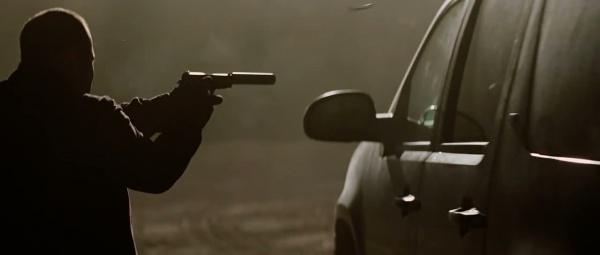Gun: (179, 70, 276, 103)
